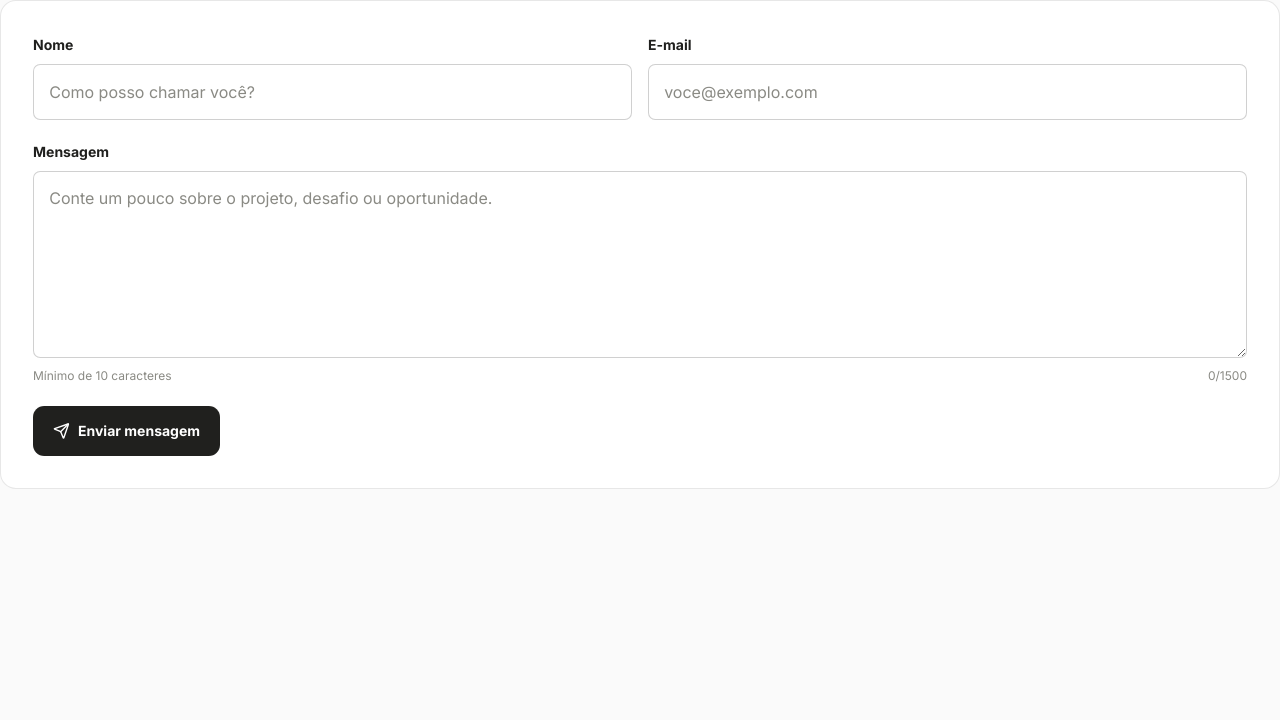
Test: ContactForm › envia dados válidos e apresenta confirmação
Type "Marina Souza" into the field labelled "Nome" at (332, 92), box [33,64,632,120]
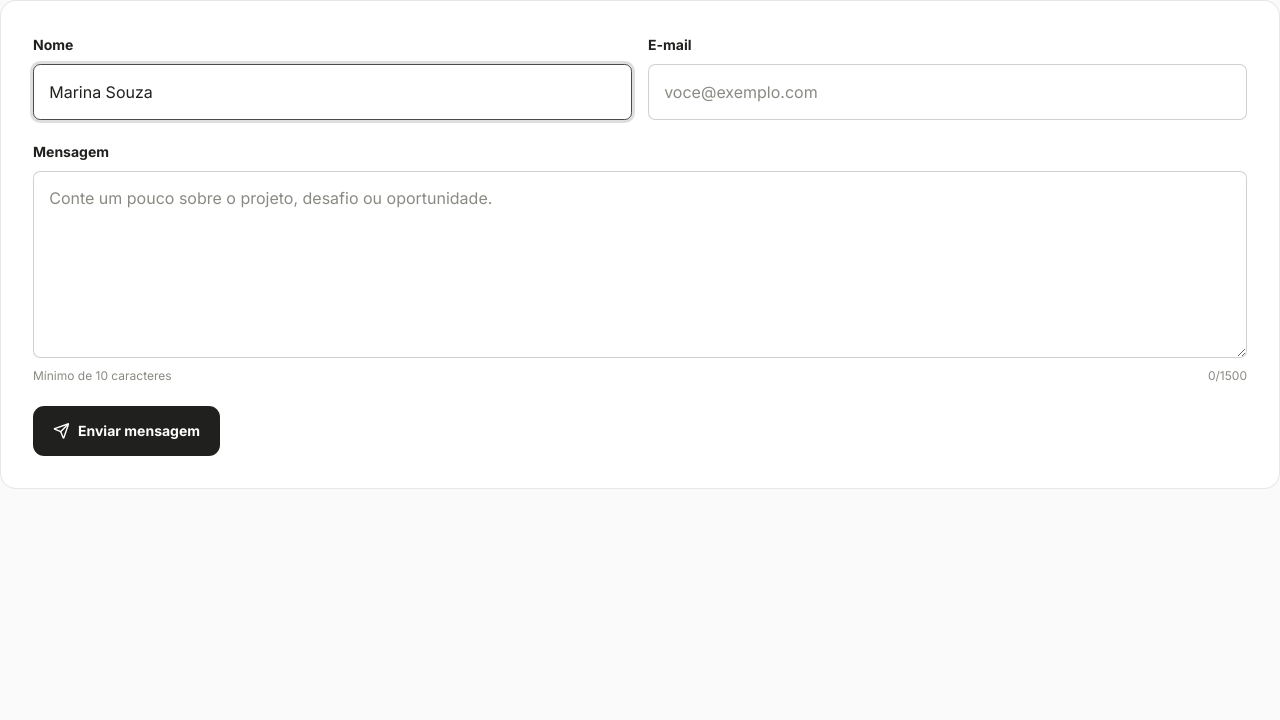
Type "marina@example.com" into the field labelled "E-mail" at (948, 92), box [648,64,1247,120]
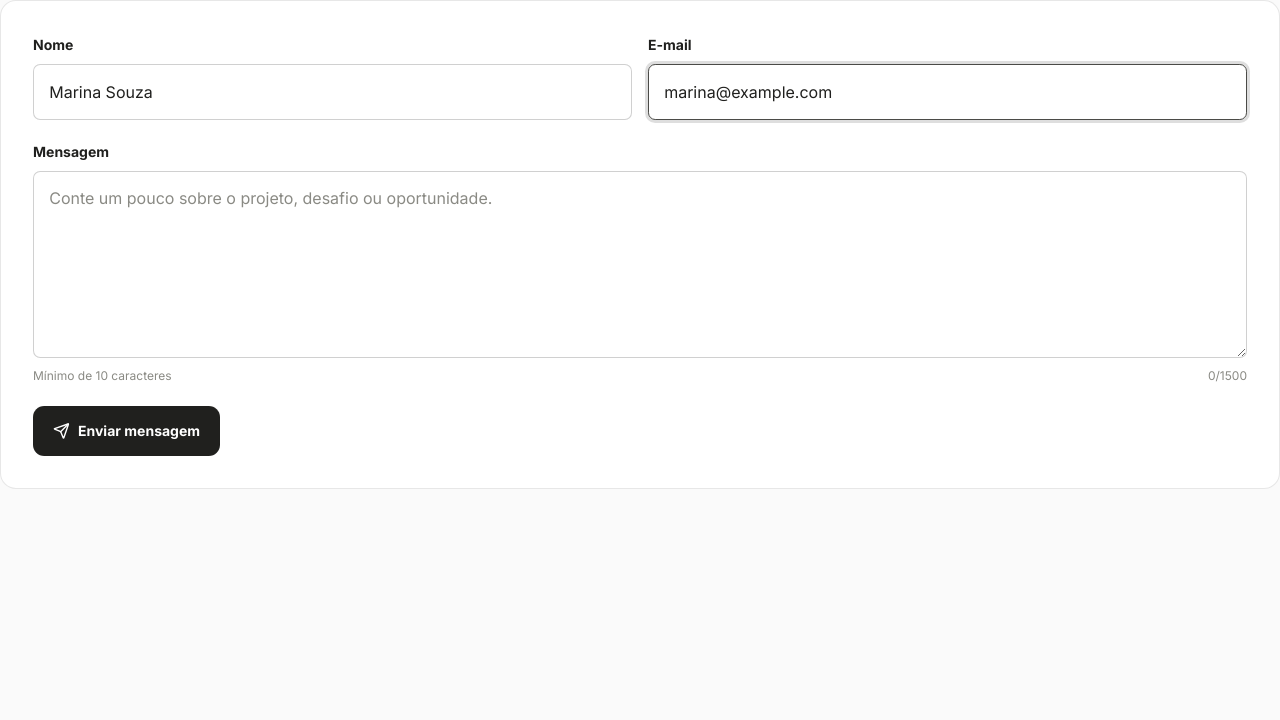
Type "Quero conversar sobre uma aplicação web." into the text box labelled "Mensagem" at (640, 265), box [33,171,1247,358]
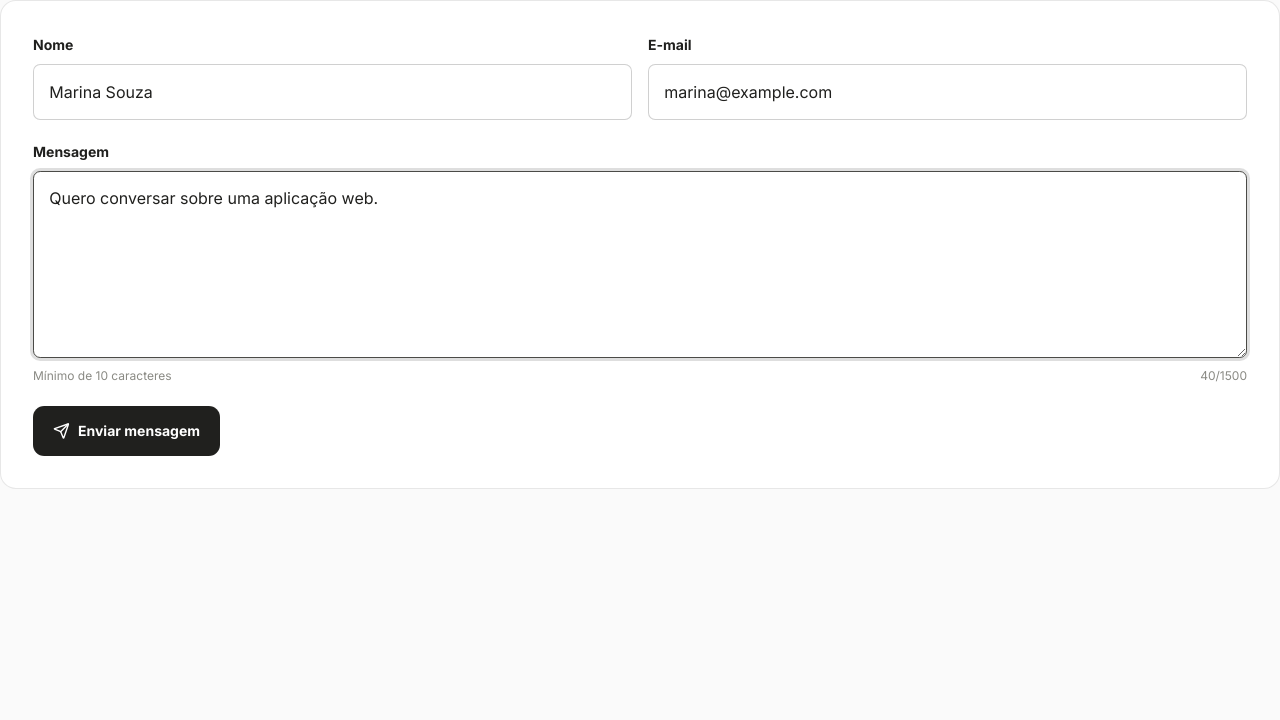
Click the button "Enviar mensagem" at (127, 431), box [33,406,220,456]
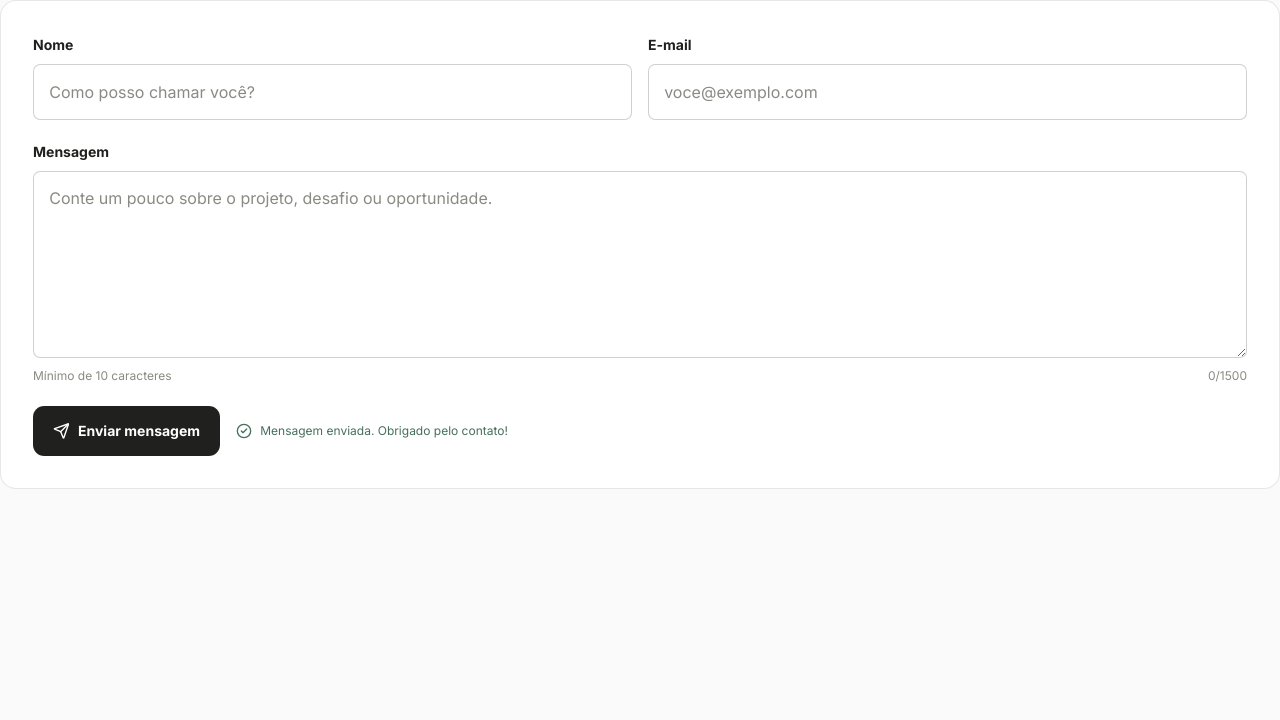
Expected: the text "Mensagem enviada. Obrigado pelo contato!" is shown, [236,419,508,443]
